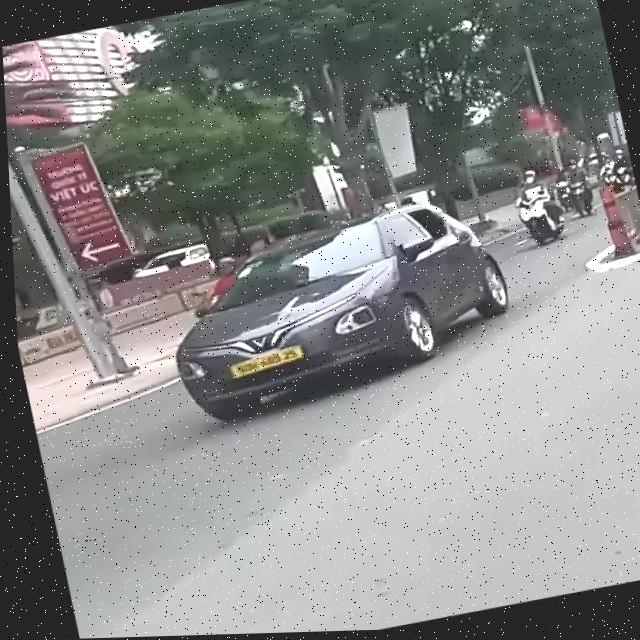car: (148, 182, 533, 426)
motorcycle: (501, 186, 562, 253)
plate: (221, 341, 312, 383)
